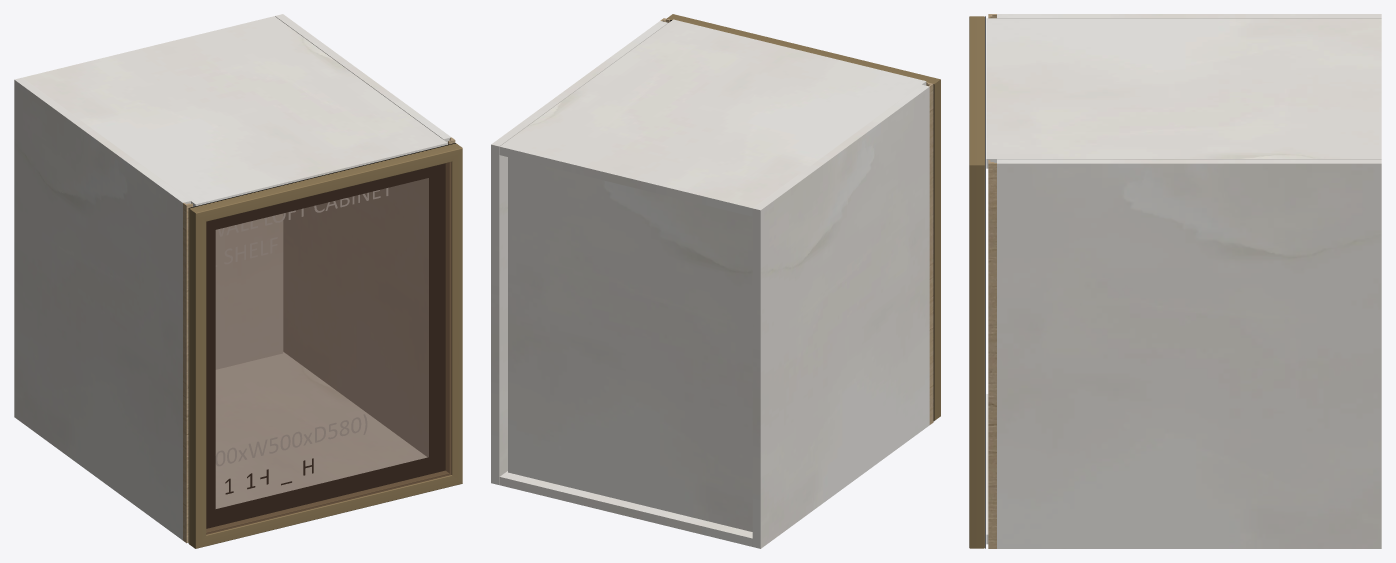
The model's file is LOF-SH-NHX-GL-1SG-LHS-XXX-500-600-560-15.glb.
3 views of the same model, side by side, from view 1: azimuth 30°, elevation 25°; view 2: azimuth 150°, elevation 25°; view 3: azimuth 270°, elevation 25° (orthographic). The views are drawn at different scales.
Visible parts, largest first — view 1: Object_node_4, TP_node_0, TP, TP_node_1, Neon 22 Profile ALU PROF NEON 20 L21XH22.5MM 3MTR S2/405 SEC (×4), TP_node, Object_node_6, TP_node_2, Object_node_8, 2D text_node_0, 2D text_node_1; view 2: TP_node_2, TP_node_0, TP, TP_node_1, Neon 22 Profile ALU PROF NEON 20 L21XH22.5MM 3MTR S2/405 SEC (×2), TP_node, Object_node_8, Object_node_6; view 3: TP_node_1, TP, Neon 22 Profile ALU PROF NEON 20 L21XH22.5MM 3MTR S2/405 SEC (×2), Object_node_14, TP_node_0, Object_node_6.
Part boxes in pixels (left/top/right/bottom): Object_node_4: left=206, top=162, right=451, bottom=534; TP_node_0: left=14, top=77, right=190, bottom=540; TP: left=23, top=16, right=447, bottom=206; TP_node_1: left=275, top=14, right=450, bottom=457; Neon 22 Profile ALU PROF NEON 20 L21XH22.5MM 3MTR S2/405 SEC (×4): left=189, top=143, right=462, bottom=548; TP_node: left=215, top=352, right=427, bottom=508; Object_node_6: left=188, top=143, right=455, bottom=543; TP_node_2: left=215, top=213, right=283, bottom=369; Object_node_8: left=183, top=202, right=192, bottom=543; 2D text_node_0: left=215, top=414, right=367, bottom=466; 2D text_node_1: left=215, top=188, right=388, bottom=266; TP_node_2: left=508, top=157, right=752, bottom=531; TP_node_0: left=752, top=84, right=929, bottom=548; TP: left=499, top=19, right=926, bottom=216; TP_node_1: left=491, top=21, right=667, bottom=484; Neon 22 Profile ALU PROF NEON 20 L21XH22.5MM 3MTR S2/405 SEC (×2): left=667, top=14, right=940, bottom=420; TP_node: left=499, top=471, right=752, bottom=546; Object_node_8: left=926, top=82, right=933, bottom=424; Object_node_6: left=670, top=20, right=934, bottom=420; TP_node_1: left=997, top=159, right=1381, bottom=548; TP: left=986, top=18, right=1381, bottom=168; Neon 22 Profile ALU PROF NEON 20 L21XH22.5MM 3MTR S2/405 SEC (×2): left=969, top=16, right=984, bottom=548; Object_node_14: left=988, top=160, right=996, bottom=548; TP_node_0: left=997, top=14, right=1381, bottom=18; Object_node_6: left=985, top=16, right=985, bottom=548.
Size of what is drawn, in the model's own units: 0.5 by 0.6 by 0.582.
6 materials, 2 textured.
